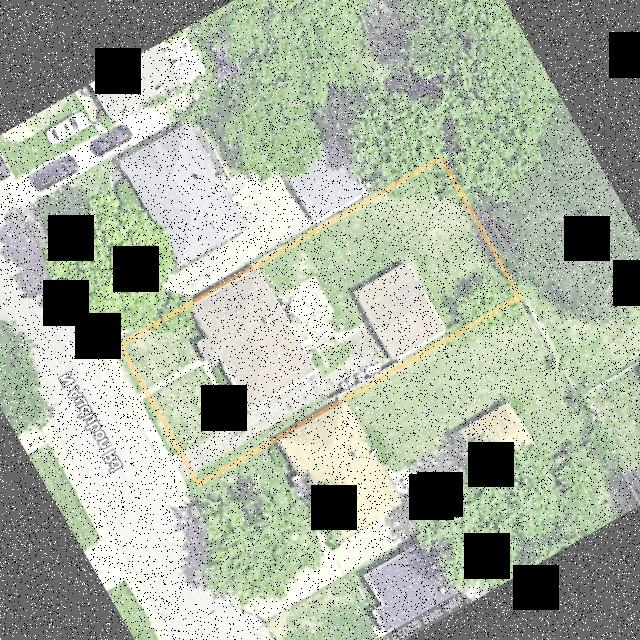Driveway: (184, 329, 388, 473)
Extra Driveway: (171, 454, 191, 481), (137, 391, 146, 402)
Extra Lawn: (141, 397, 178, 455), (111, 344, 144, 394), (185, 475, 198, 491)
House: (194, 269, 315, 409)
Other: (354, 263, 446, 360), (276, 276, 338, 359), (338, 363, 382, 391)
Sidewalk: (148, 359, 237, 420), (335, 321, 369, 342)
